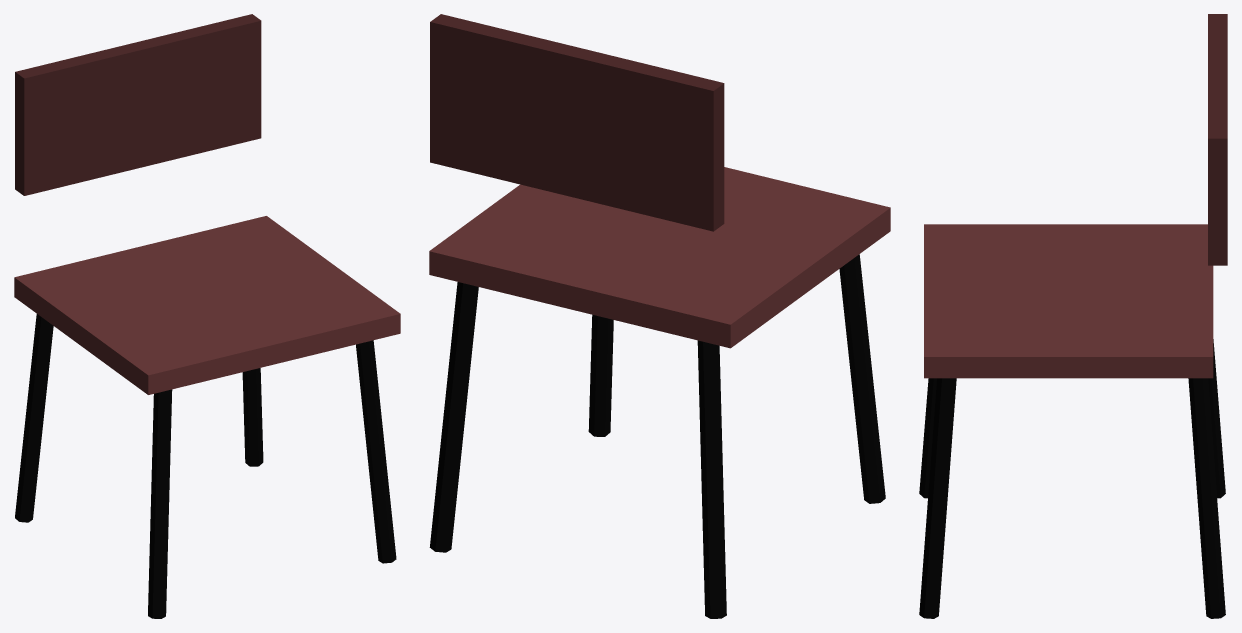
The model's file is chair-stack.glb.
The picture shows the model from 3 angles, left to right: view 1: azimuth 30°, elevation 25°; view 2: azimuth 150°, elevation 25°; view 3: azimuth 270°, elevation 25°; orthographic projection. The views are drawn at different scales.
Parts seen in each view (by area): view 1: chair-stack; view 2: chair-stack; view 3: chair-stack.
Part boxes in pixels (box(x1,y1,x2,y2)): chair-stack: box(14, 14, 400, 618); chair-stack: box(429, 14, 890, 618); chair-stack: box(919, 14, 1227, 618).
Bounding box in the file's own units: 0.4877 × 0.8211 × 0.4788.
